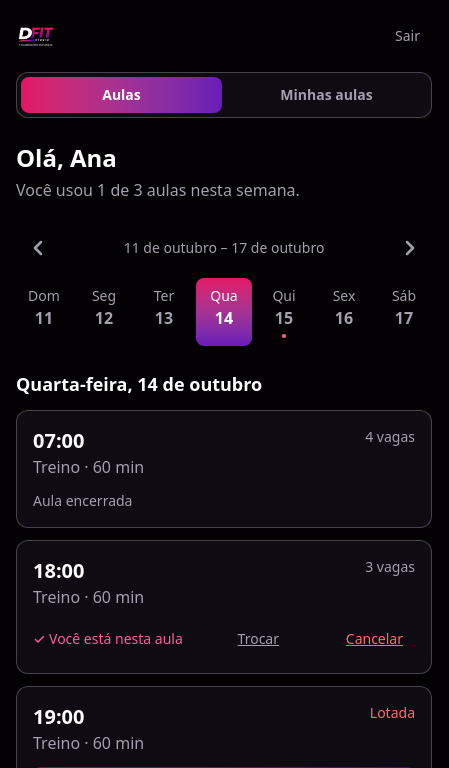
it: week view › cancels a booking after confirmation
Expected: the text "✓ Você está nesta aula" is shown, [33, 629, 183, 649]
Click the button "Cancelar" at {"x": 374, "y": 639}, box [334, 621, 415, 657]
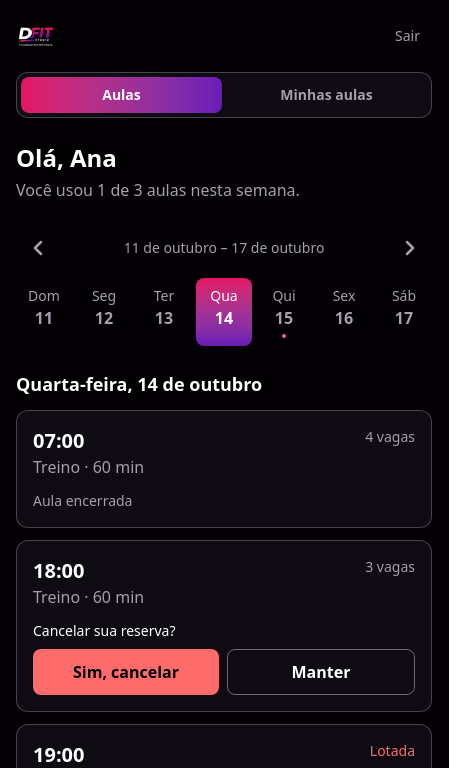
Click the button "Manter" at {"x": 321, "y": 672}, box [227, 649, 415, 695]
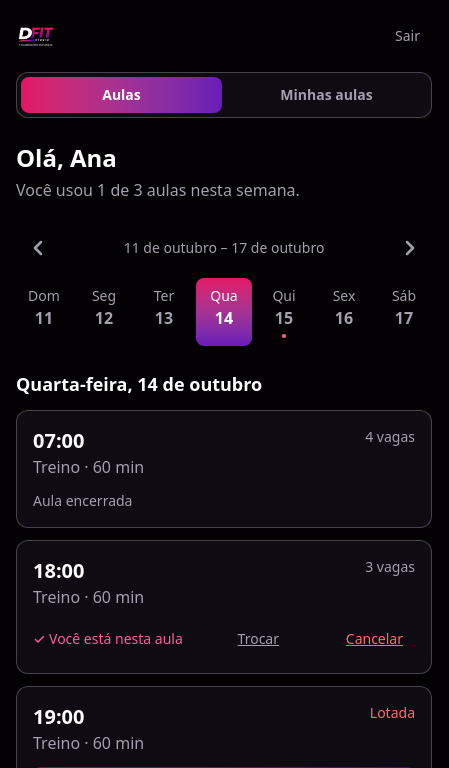
Click the button "Cancelar" at {"x": 374, "y": 639}, box [334, 621, 415, 657]
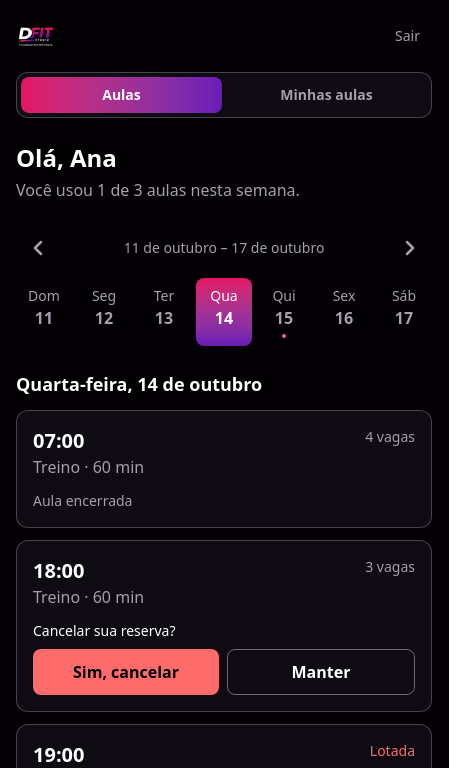
Click the button "Sim, cancelar" at {"x": 126, "y": 672}, box [33, 649, 219, 695]
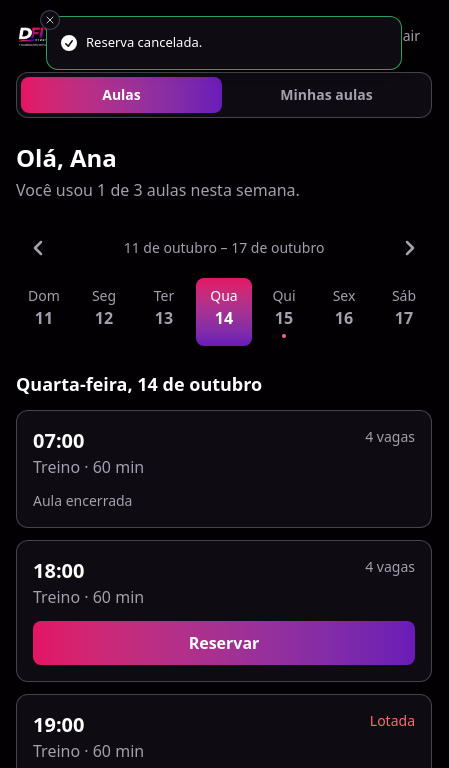
Expected: the text "✓ Você está nesta aula" is not shown
Expected: the button "Reservar" is shown, [33, 621, 415, 665]
Expected: the text "Reserva cancelada." is shown, [86, 33, 202, 52]
